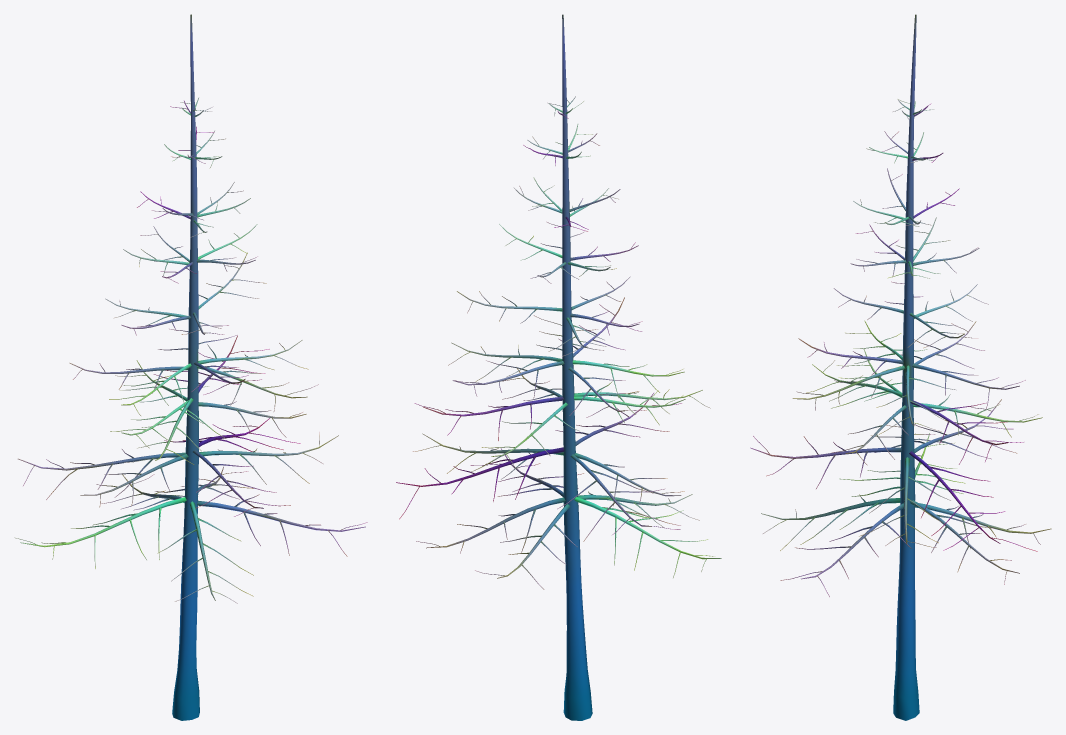
The model's file is larch-grove-c.glb.
The picture shows the model from 3 angles, left to right: view 1: azimuth 30°, elevation 25°; view 2: azimuth 150°, elevation 25°; view 3: azimuth 270°, elevation 25°; orthographic projection.
Visible parts, largest first — view 1: bark; view 2: bark; view 3: bark.
Boxes of the visible parts, left/top/right/bottom form: bark: left=14, top=14, right=367, bottom=720; bark: left=396, top=14, right=721, bottom=720; bark: left=750, top=14, right=1051, bottom=720.
Bounding box in the file's own units: 8.54 × 18.46 × 7.16.
